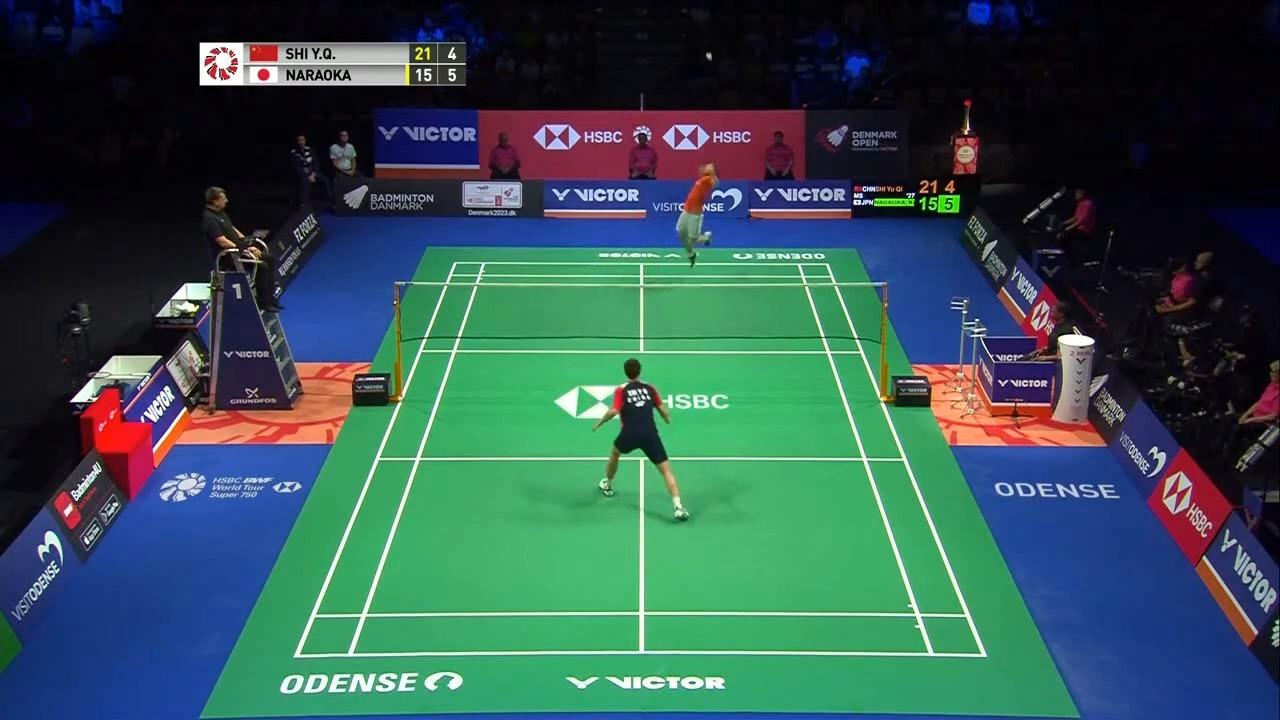shuttle: (704, 49, 715, 64)
